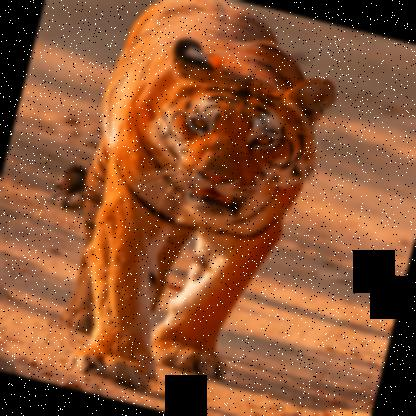Panthera tigris: (37, 0, 354, 415)
